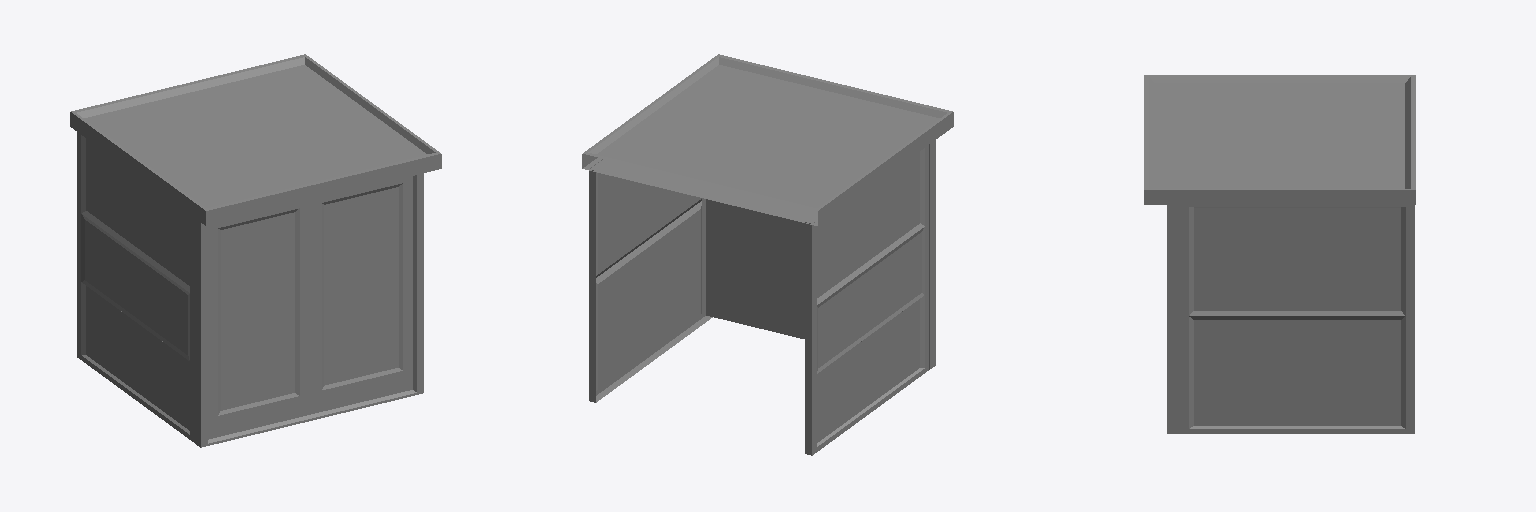
Rendered from door_mailboxes.obj.
3 renders of one model, left to right at view 1: azimuth 30°, elevation 25°; view 2: azimuth 150°, elevation 25°; view 3: azimuth 270°, elevation 25°, orthographic.
Parts seen in each view (by area): view 1: Box013; view 2: Box013; view 3: Box013.
Part boxes in pixels (left/top/right/bottom): Box013: left=70, top=54, right=441, bottom=447; Box013: left=582, top=54, right=953, bottom=455; Box013: left=1144, top=75, right=1415, bottom=433.
Bounding box in the file's own units: 12.79 × 12.8 × 12.79.